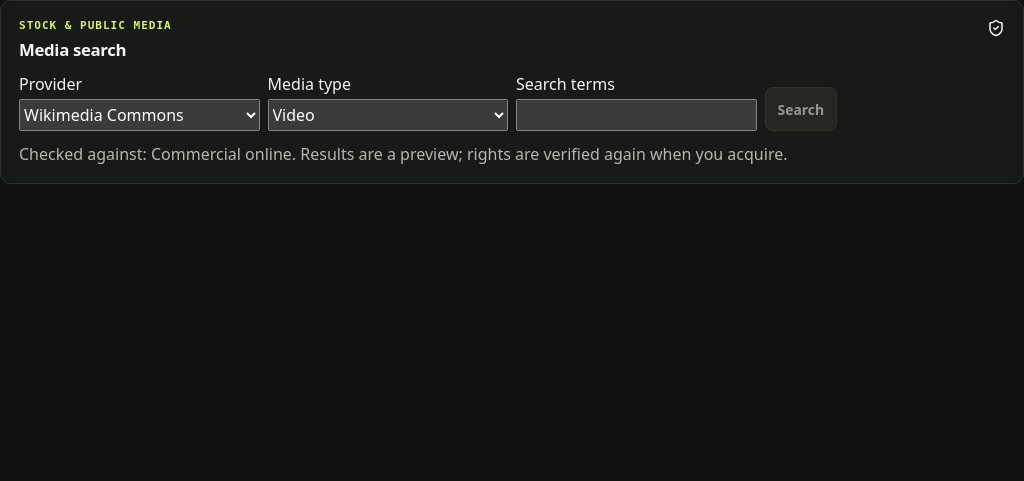
it: RightsPanel › explains acquisition failures
This screenshot has width=1024, height=481.
Type "sunrise" into the search field labelled "Search terms" at (636, 115), box [516,99,756,131]
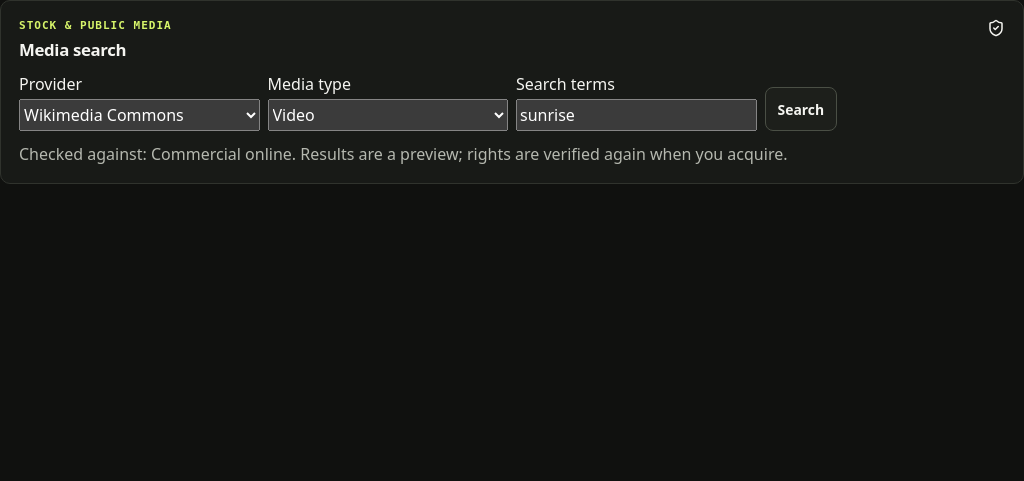
Click the button "Search" at (801, 109), box [764,87,837,131]
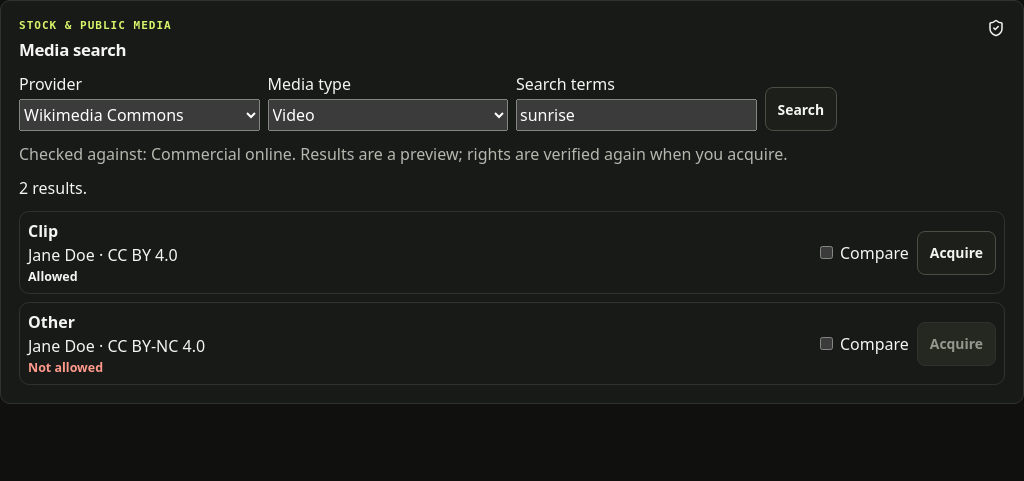
Expected: the list named "Search results" is shown, [19,211,1005,385]
Click the button with aria-label "Acquire Clip" at (956, 252), box [917,230,996,274]
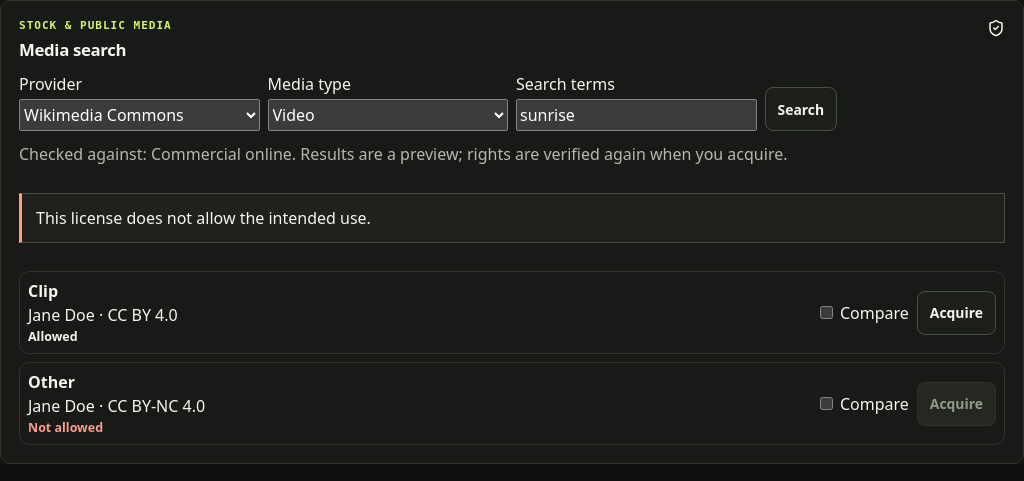
Expected: the message reads "This license does not allow the intended use.", [36,207,371,229]
